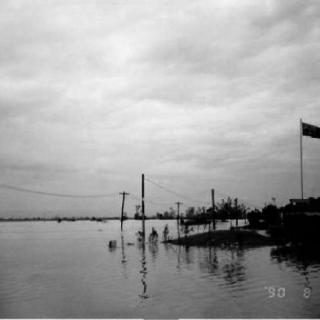Stratus: (0, 0, 300, 172)
